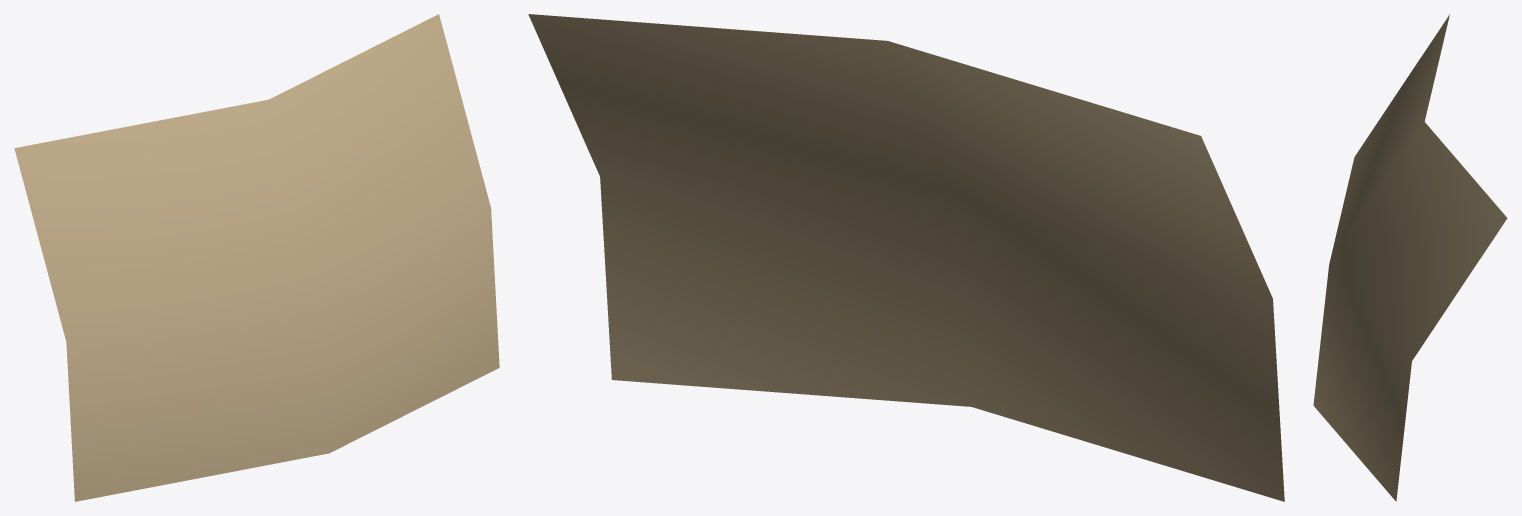
The model's file is GrassPlane_b_TwoS_03.fbx.
3 renders of one model, left to right at view 1: azimuth 30°, elevation 25°; view 2: azimuth 150°, elevation 25°; view 3: azimuth 270°, elevation 25°, orthographic. The views are drawn at different scales.
Parts seen in each view (by area): view 1: GrassPlane_b_TwoS_03; view 2: GrassPlane_b_TwoS_03; view 3: GrassPlane_b_TwoS_03.
Part boxes in pixels (x1=…): GrassPlane_b_TwoS_03: x1=14, y1=14, x2=499, y2=501; GrassPlane_b_TwoS_03: x1=528, y1=14, x2=1284, y2=501; GrassPlane_b_TwoS_03: x1=1313, y1=14, x2=1507, y2=501.
Bounding box in the file's own units: 90.09 × 58.41 × 36.19.
